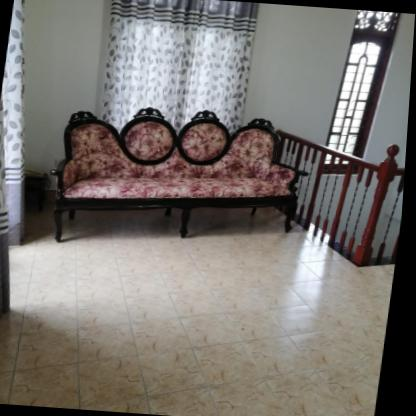Sofa: (40, 100, 318, 258)
